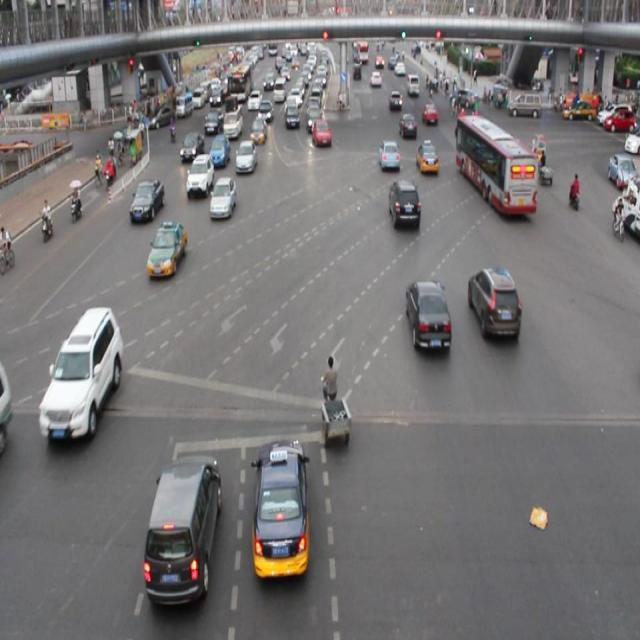car: (38, 304, 118, 440), (250, 436, 308, 582), (466, 263, 518, 343), (404, 276, 451, 355), (147, 221, 186, 277), (388, 177, 421, 233), (129, 177, 164, 225), (185, 155, 214, 201), (210, 177, 236, 221), (308, 116, 332, 151), (235, 137, 258, 172), (208, 132, 230, 167), (415, 140, 438, 173), (378, 137, 399, 172), (180, 129, 201, 163), (203, 107, 222, 138), (249, 115, 266, 148), (398, 112, 416, 138)
truck: (142, 454, 218, 606), (1, 360, 15, 450), (223, 96, 243, 137)
van: (455, 118, 535, 217)
